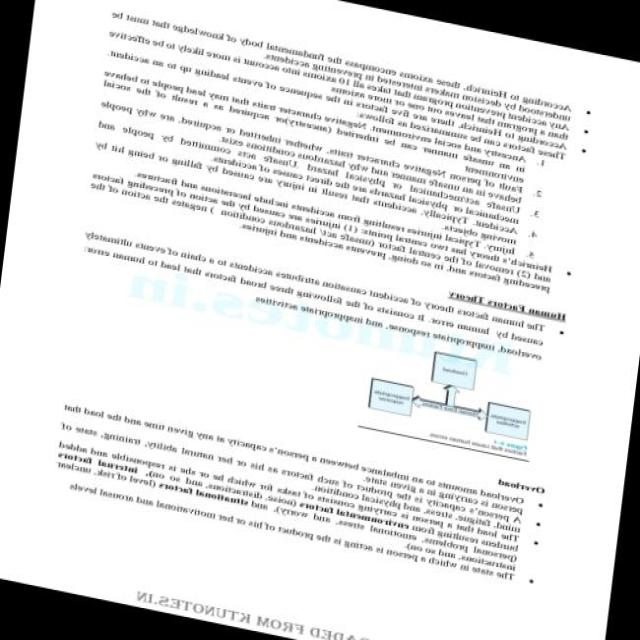Figure Detection - v3 Dataset Version2: (358, 331, 548, 446)
